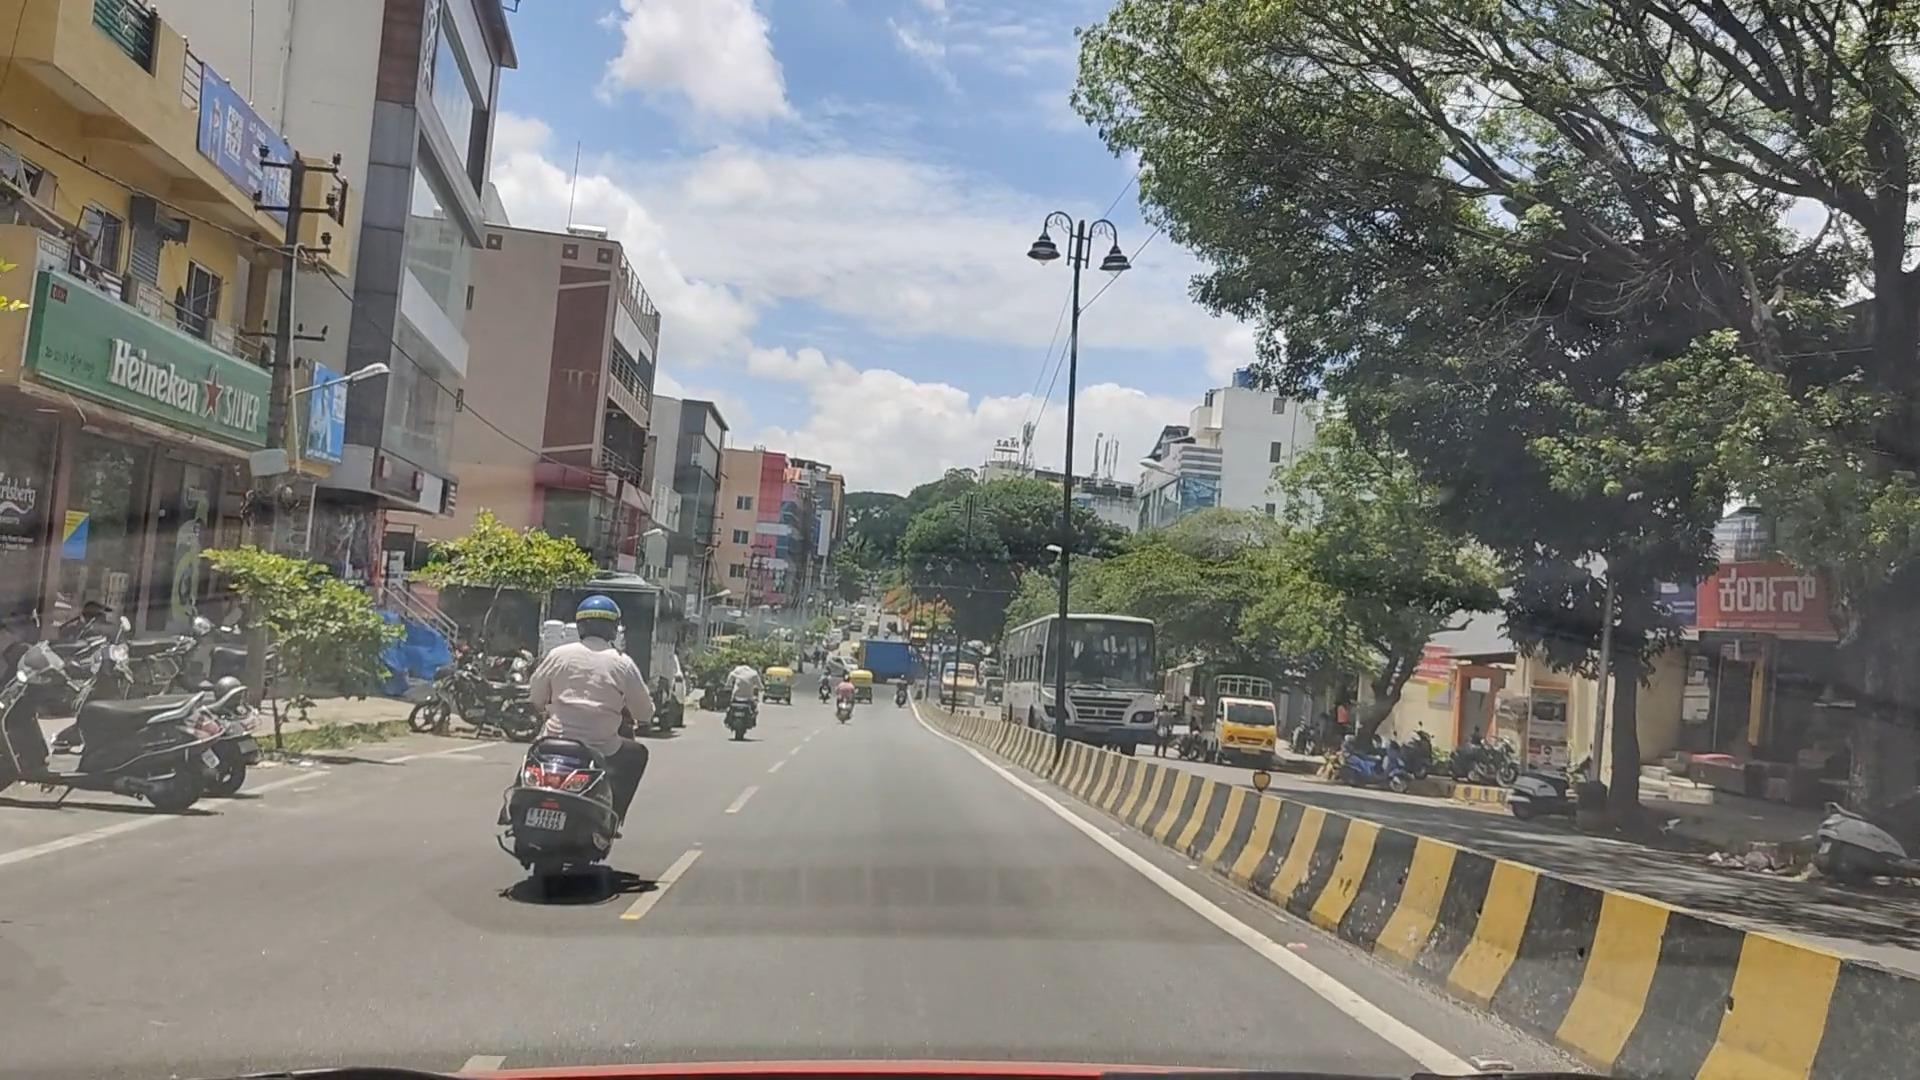LMV: (451, 553, 666, 935)
